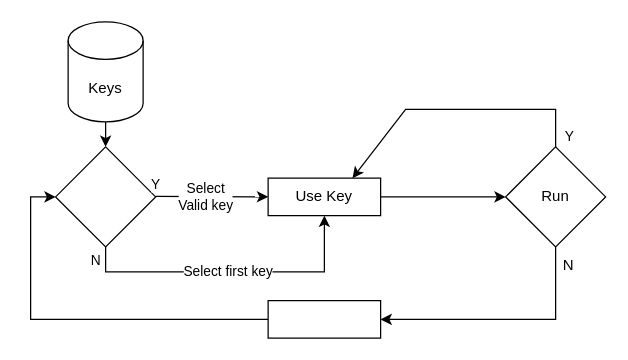
Some shapes in this 628 by 360 pixel diagram are drawn without their labels. The shapes that lost their labels are listed below. From the top down, each one's box as (x1, y1, x2, y2) in pixels, then its label:
(54, 146, 156, 247): Check key Logs
(267, 299, 381, 338): Update Logs
